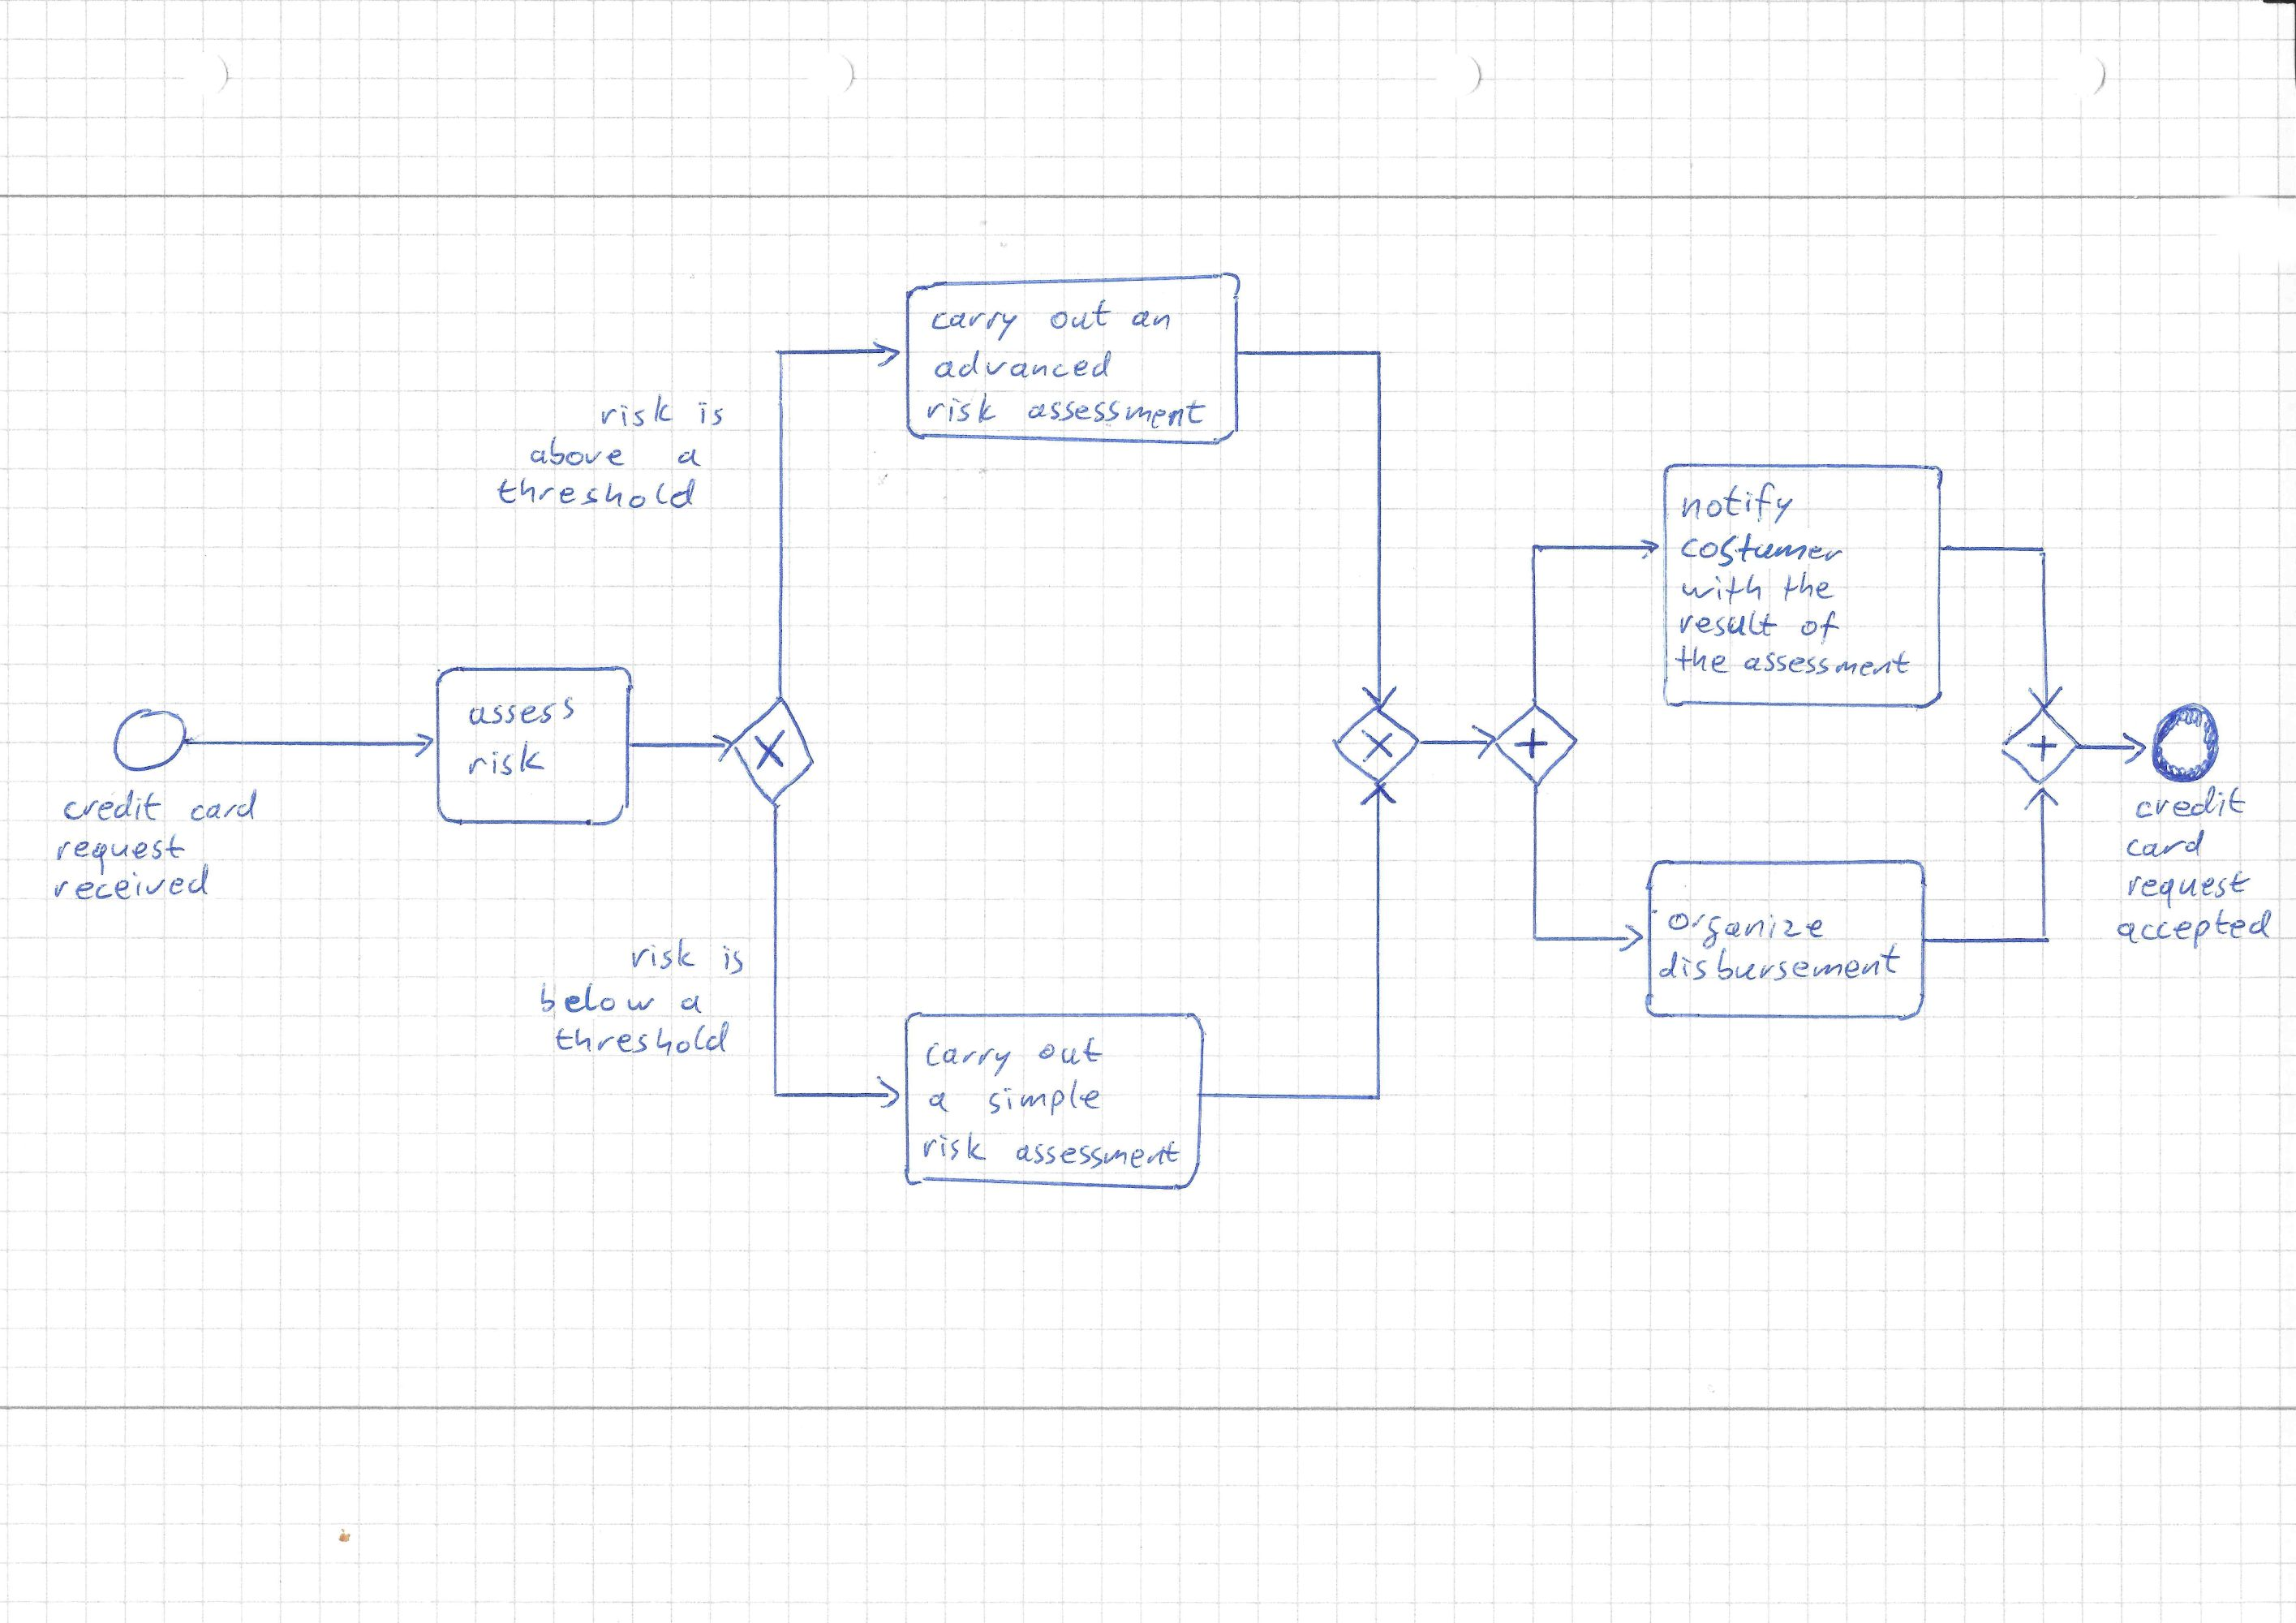a: (678, 985, 704, 1022), (674, 446, 706, 472), (925, 1089, 953, 1115)
above: (527, 434, 628, 471)
accepted: (2113, 908, 2277, 950)
advanced: (932, 348, 1115, 381)
an: (1127, 309, 1174, 332)
assess: (463, 694, 579, 729)
assessment: (1023, 395, 1209, 430), (1013, 1136, 1183, 1172), (1740, 648, 1913, 680)
below: (537, 980, 658, 1021)
card: (2124, 827, 2208, 862), (188, 787, 260, 826)
carry: (922, 1040, 1015, 1078), (929, 309, 1020, 344)
costumer: (1678, 530, 1845, 569)
credit: (2133, 783, 2250, 822), (60, 787, 165, 826)
disbursement: (1657, 941, 1903, 985)
is: (720, 941, 748, 980), (697, 397, 725, 430)
notify: (1678, 481, 1796, 525)
of: (1797, 608, 1843, 648)
organize: (1664, 908, 1827, 952)
out: (1046, 297, 1115, 334), (1036, 1035, 1104, 1068)
received: (51, 861, 214, 905)
request: (53, 833, 188, 878), (2124, 868, 2252, 912)
result: (1676, 608, 1780, 639)
risk: (465, 738, 548, 780), (595, 392, 674, 429), (923, 390, 999, 427), (627, 934, 697, 971), (920, 1129, 988, 1165)
simple: (985, 1077, 1106, 1119)
the: (1780, 569, 1838, 604), (1673, 643, 1733, 676)
threshold: (493, 476, 697, 513), (553, 1019, 732, 1059)
with: (1680, 573, 1764, 608)
